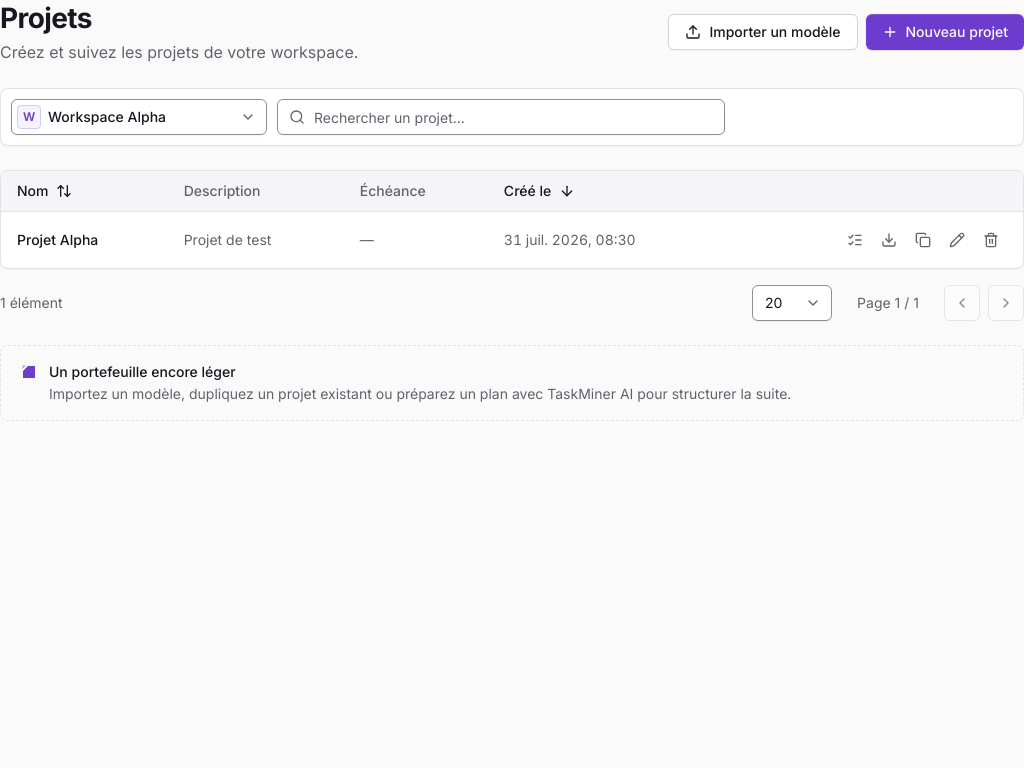
Scenario: ProjectsPage › creates a project and invalidates the list
Expected: the text "Projet Alpha" is shown, [17,230,98,248]
Click the button "Nouveau projet".
click(945, 32)  # box [866,14,1023,50]
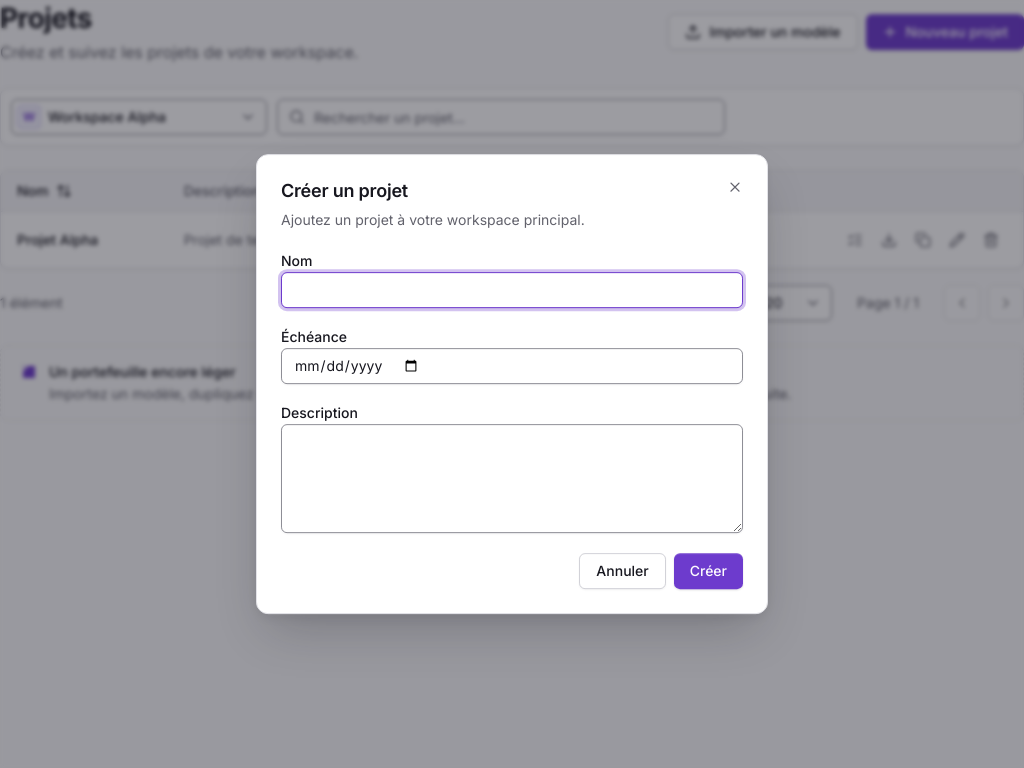
Type "Projet Beta" into the field labelled "Nom".
click(512, 290); type("Projet Beta")  # box [281,272,743,308]
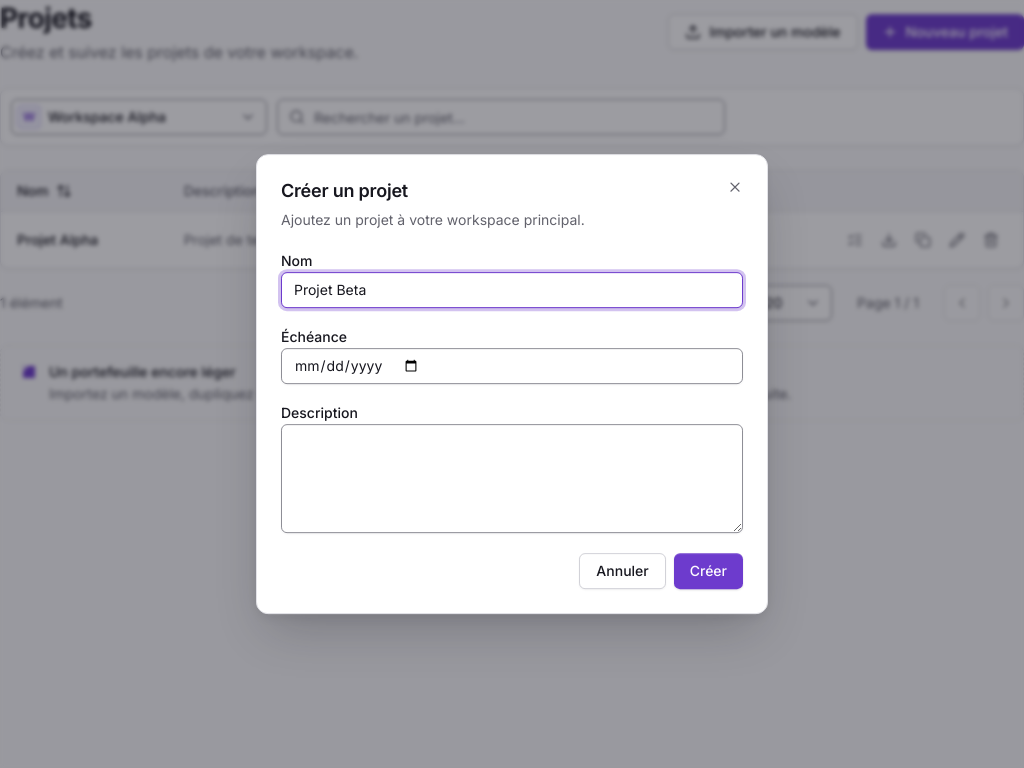
Type "2030-12-31" into the date field labelled "Échéance".
click(512, 366); type("2030-12-31")  # box [281,348,743,384]
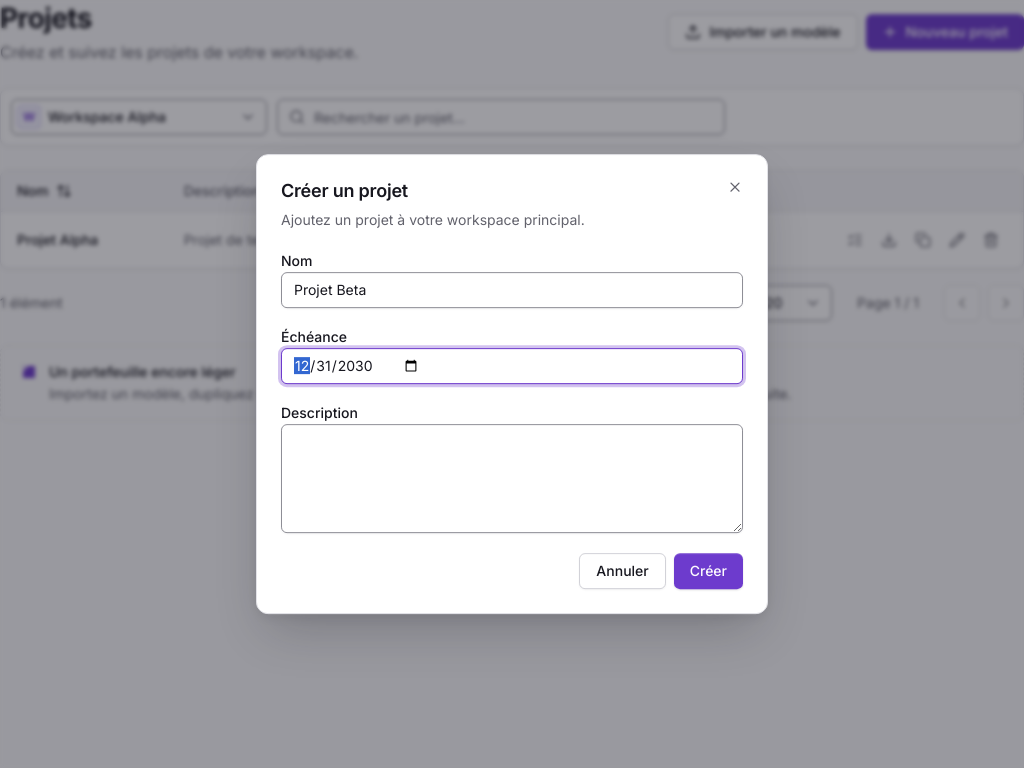
Click the button "Créer".
click(708, 571)  # box [674,553,743,589]
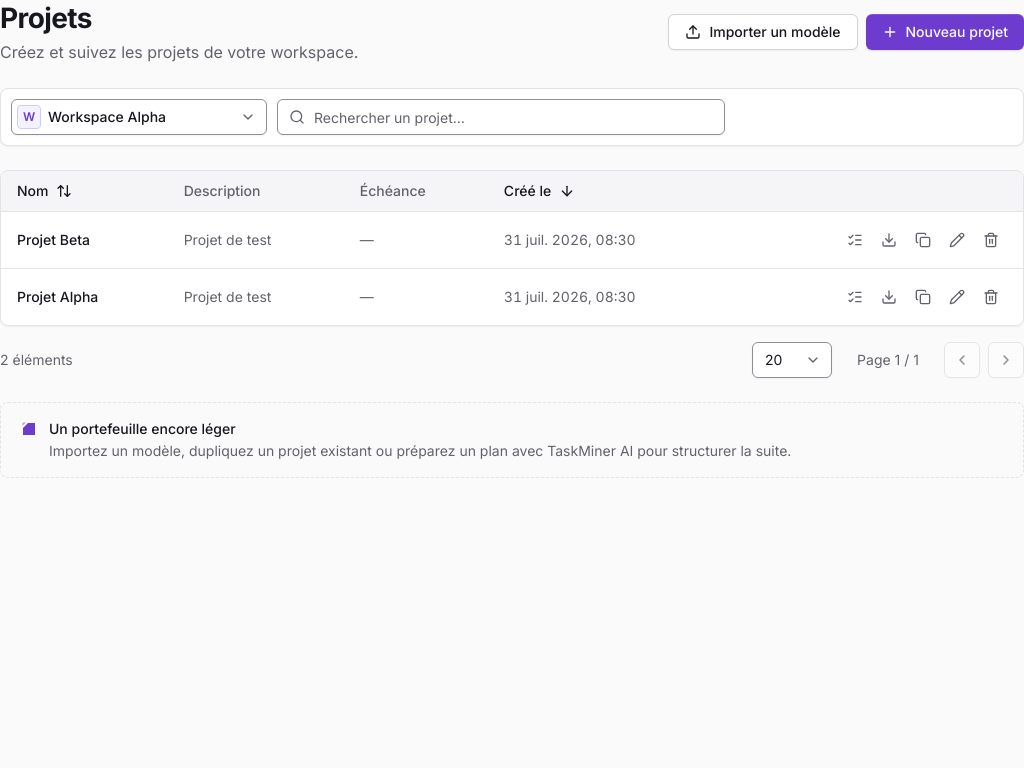
Result: the text "Projet Beta" is shown at [17,230,90,248]
